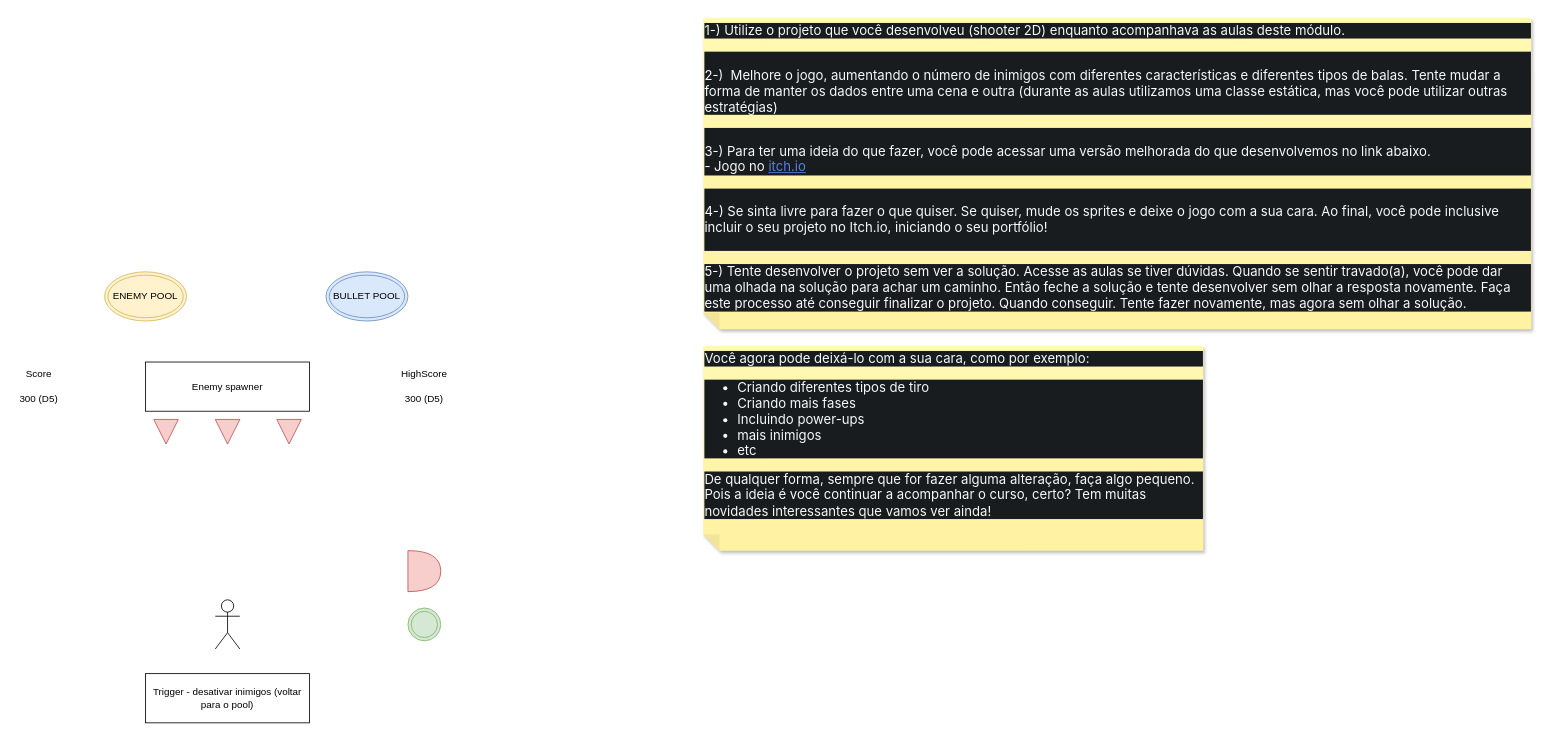
Image size: 1550x737. Some labels were removed from this diagram. The centre of each missing label's shape, as x and y in pixels:
Ativar Idle: pixel 424 571
Player: pixel 227 624
som: pixel 424 624
